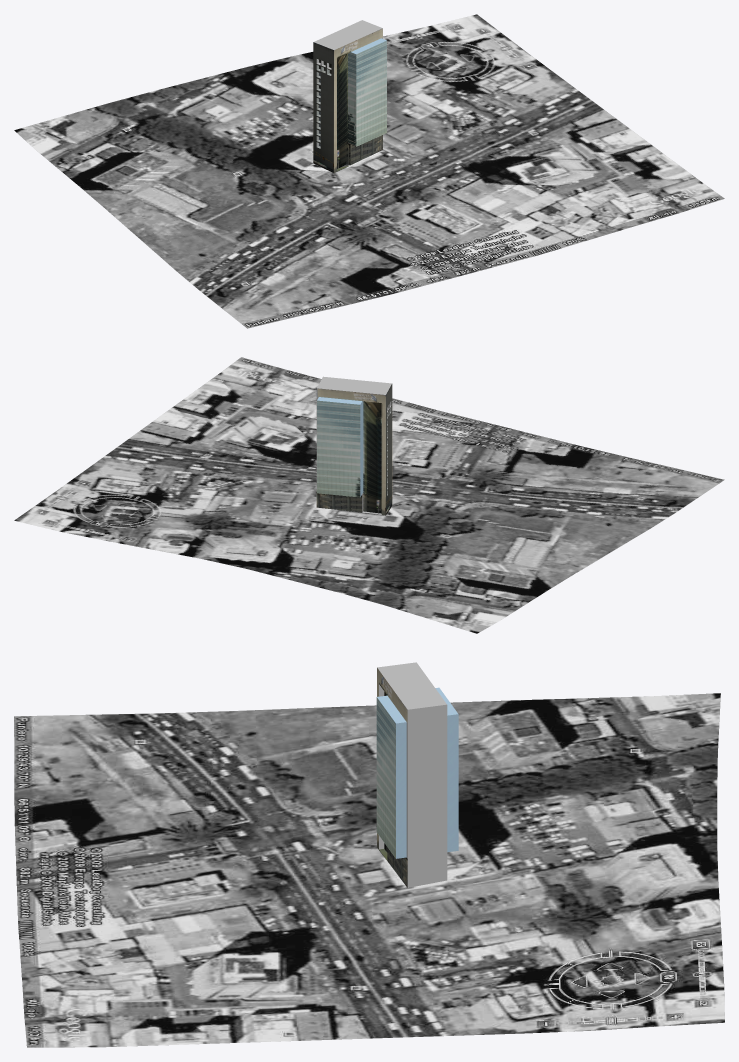
The model's file is tarea2-maria-g.fbx.
The picture shows the model from 3 angles, top to bottom: view 1: azimuth 30°, elevation 25°; view 2: azimuth 150°, elevation 25°; view 3: azimuth 270°, elevation 25°; orthographic projection. The views are drawn at different scales.
Visible parts, largest first — view 1: Google_Earth_Terrain, Group1; view 2: Google_Earth_Terrain, Group1; view 3: Google_Earth_Terrain, Group1.
Part boxes in pixels (x1,y1,x2,y2): Google_Earth_Terrain: (14,14,724,328); Group1: (313,20,386,172); Google_Earth_Terrain: (14,357,724,633); Group1: (316,376,392,515); Google_Earth_Terrain: (14,693,724,1047); Group1: (376,662,458,887).
Bounding box in the file's own units: 257 × 70.09 × 224.
